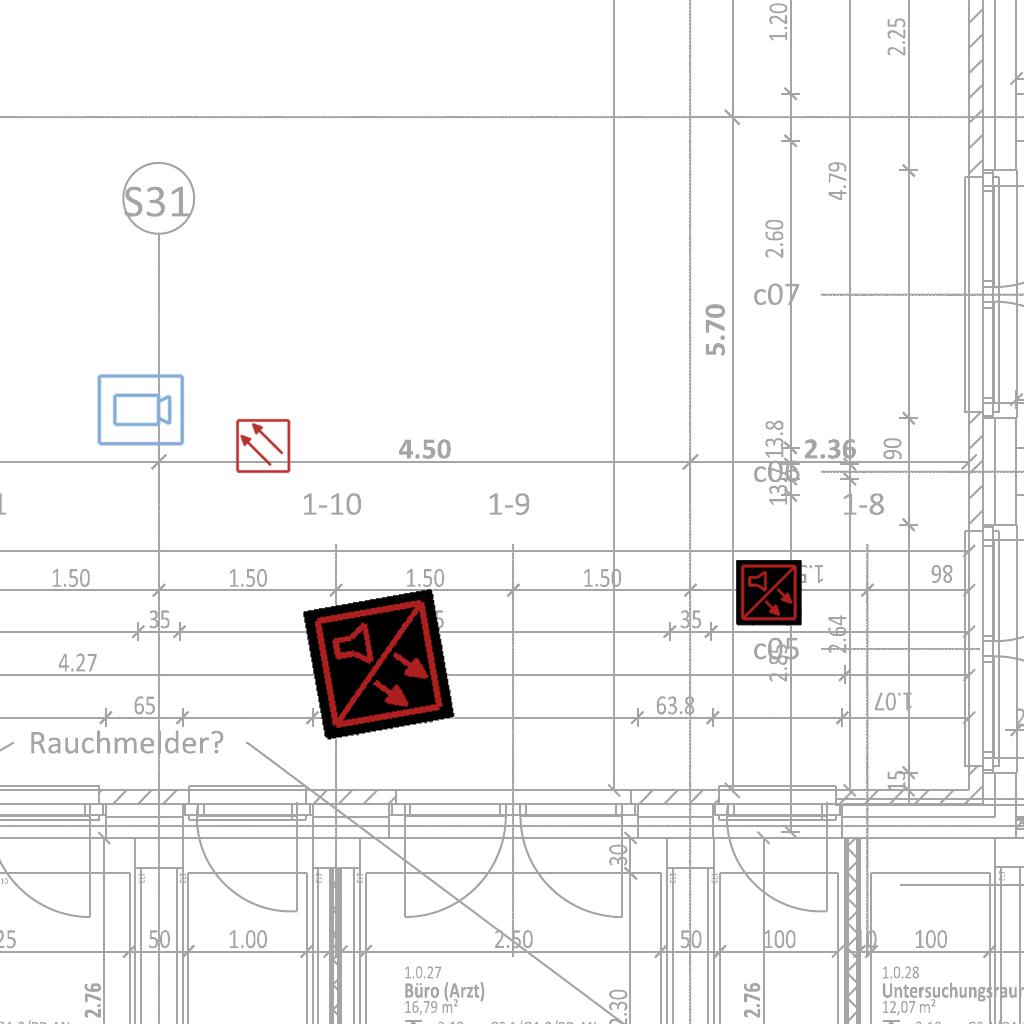KFO_Kamera_mit_Festobjektiv: (95, 372, 186, 449)
OKW_Multisensormelder_(Kombination_optischer_Rauch-Kahlenmonoxid_Waerme-Melder): (302, 588, 456, 742), (736, 560, 802, 626)
RMO_Rauchmelder_optischer: (235, 418, 291, 474)
